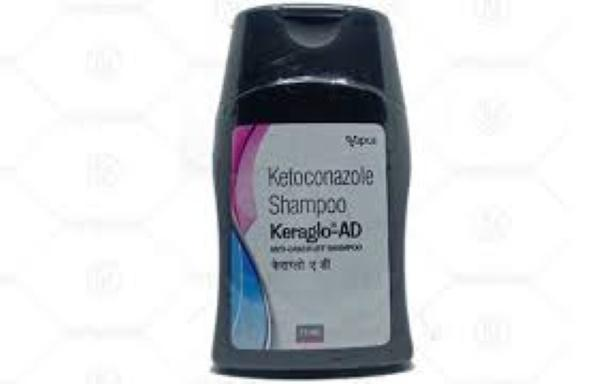KeraGlo: (194, 5, 432, 379)
